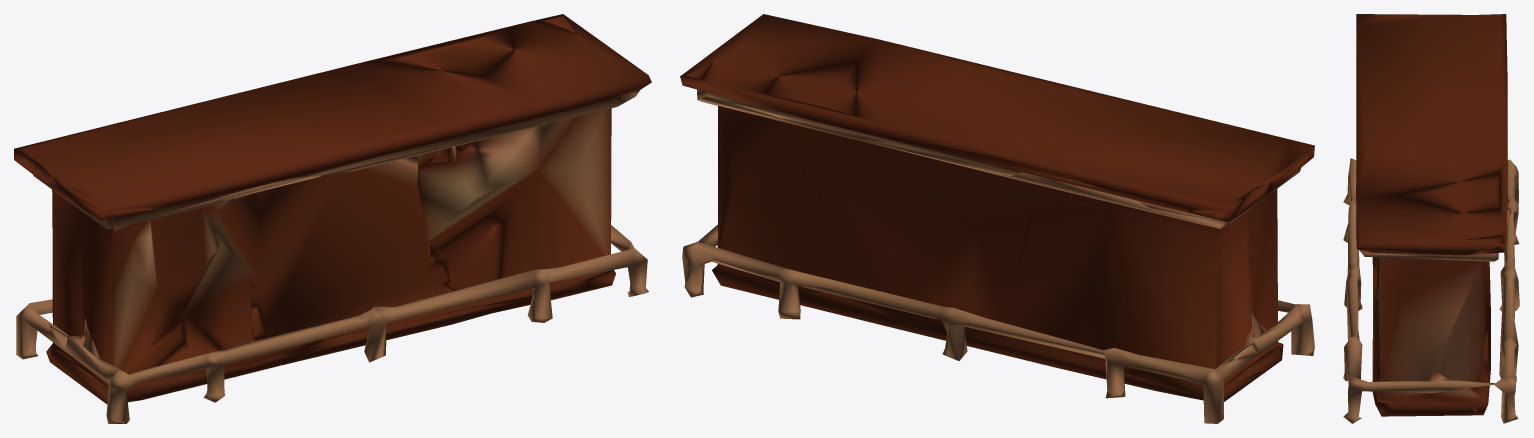
File: gen3d-bar-counter-lod1.glb
3 renders of one model, left to right at view 1: azimuth 30°, elevation 25°; view 2: azimuth 150°, elevation 25°; view 3: azimuth 270°, elevation 25°, orthographic. The views are drawn at different scales.
Parts seen in each view (by area): view 1: part_0; view 2: part_0; view 3: part_0.
Part boxes in pixels (x1=…): part_0: x1=14, y1=14, x2=651, y2=423; part_0: x1=680, y1=14, x2=1314, y2=423; part_0: x1=1343, y1=14, x2=1519, y2=423.
Bounding box in the file's own units: 2.7 × 0.9997 × 0.8694.
